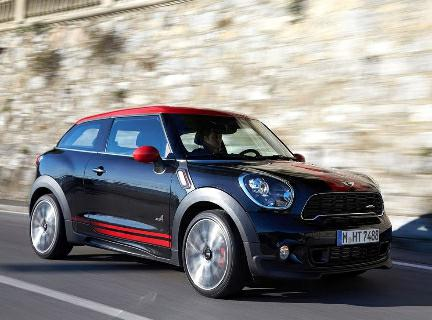MINI-JCWPACEMAN: (17, 103, 404, 303)
